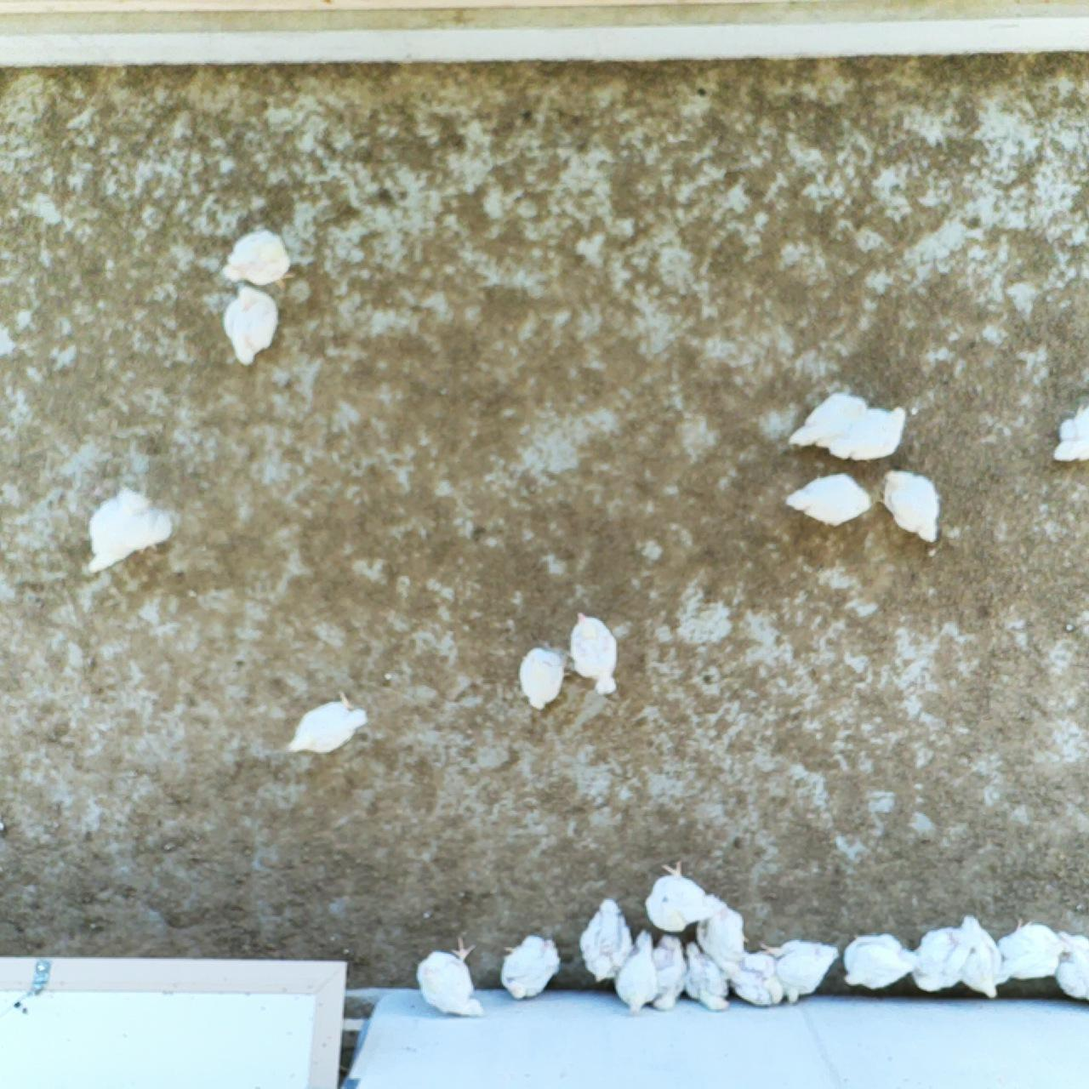chicken: (84, 479, 180, 575), (284, 686, 371, 764), (414, 932, 487, 1021), (642, 857, 726, 931), (218, 282, 284, 368), (782, 469, 878, 528), (785, 386, 870, 452), (218, 226, 299, 294), (828, 402, 911, 468), (568, 604, 624, 699), (760, 938, 841, 1003), (880, 466, 945, 546), (577, 894, 633, 984), (994, 917, 1067, 986), (841, 928, 919, 991), (498, 932, 563, 1003), (955, 915, 1006, 1001), (613, 927, 660, 1016), (682, 935, 733, 1016), (515, 642, 568, 713), (696, 902, 751, 969), (645, 933, 689, 1014), (910, 926, 962, 993), (730, 952, 784, 1009), (1046, 402, 1089, 470), (1053, 927, 1089, 1001)
